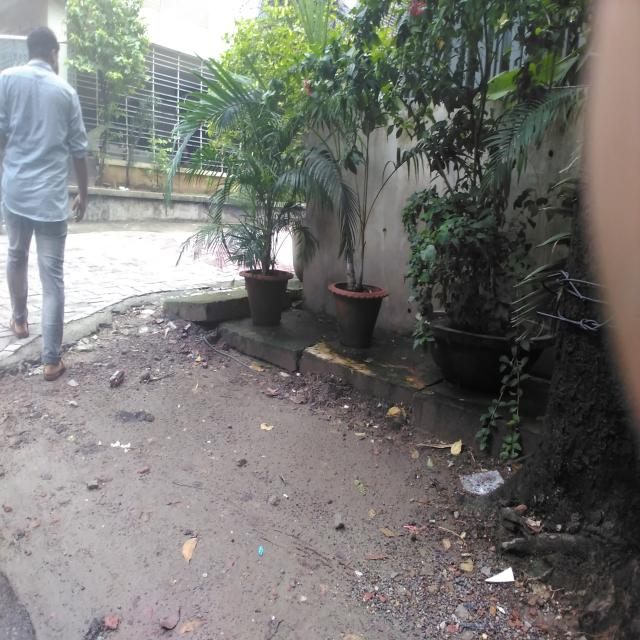artificial_container: (412, 302, 546, 400), (325, 275, 391, 353), (237, 268, 295, 332)
